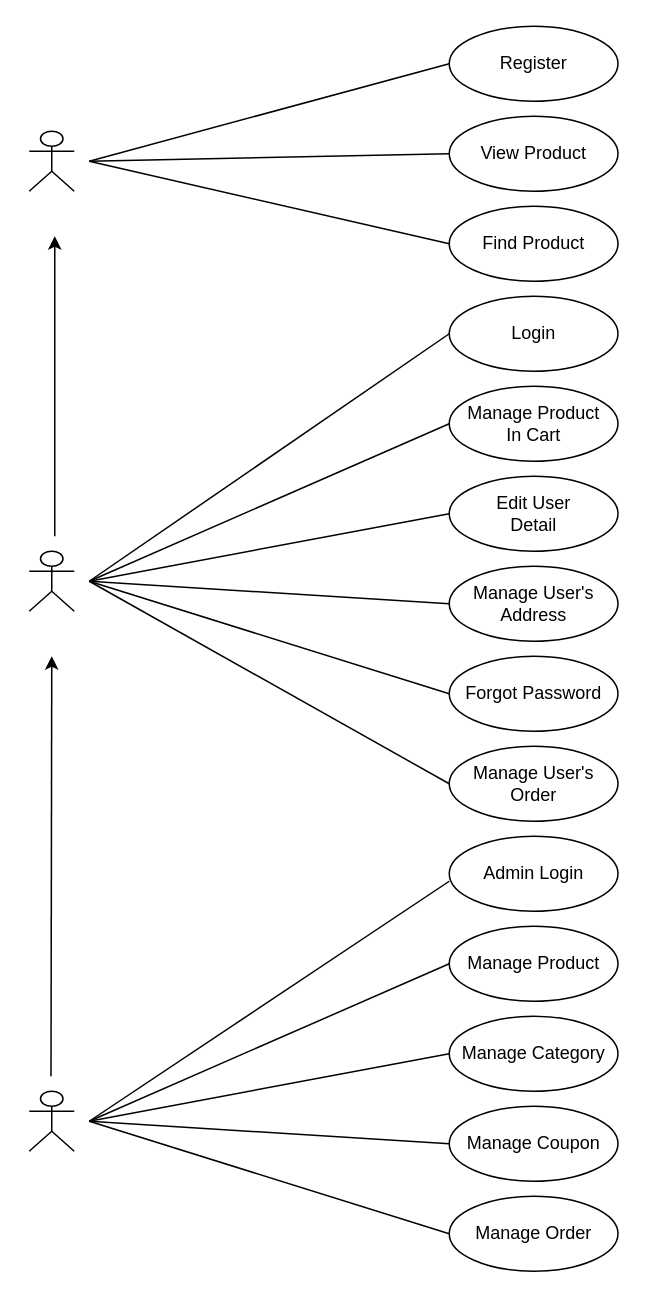
This 645x1298 diagram has some shape labels left out. Here are the shapes that lost their labels. From the top down, the centre of each, then its label:
At point (51, 160): "Guest".
At point (51, 580): "User".
At point (51, 1120): "Admin".
